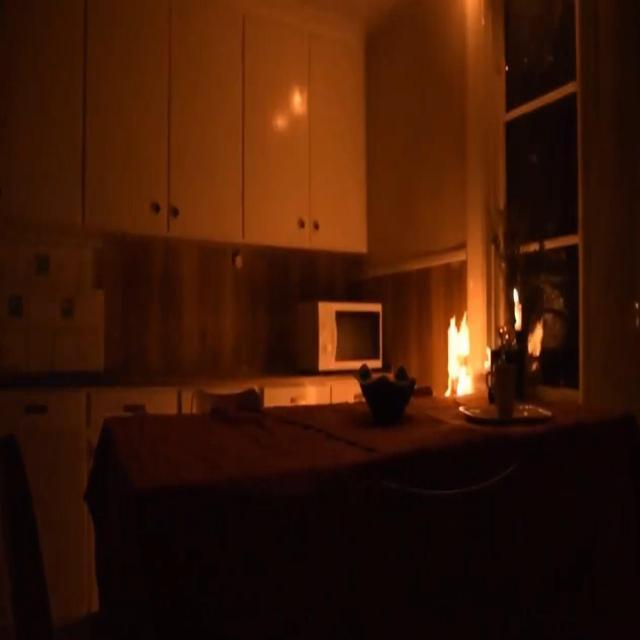smoke: (441, 302, 478, 404), (525, 316, 547, 372), (509, 284, 522, 334), (481, 344, 493, 376)
